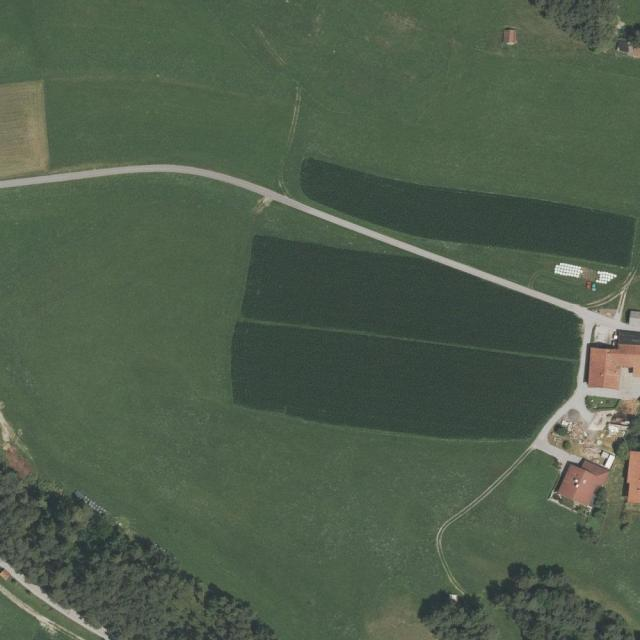agricultural_land: (433, 436, 640, 626), (0, 81, 49, 178)
building: (555, 453, 611, 511)
greenland: (223, 233, 589, 457), (292, 156, 639, 275), (433, 436, 640, 626), (434, 438, 640, 626), (433, 236, 600, 306), (572, 481, 615, 544), (605, 456, 628, 518), (584, 395, 620, 414)
unmetalled_road: (564, 301, 631, 336), (529, 433, 581, 475), (534, 399, 575, 444), (569, 342, 593, 412), (585, 382, 640, 398)
